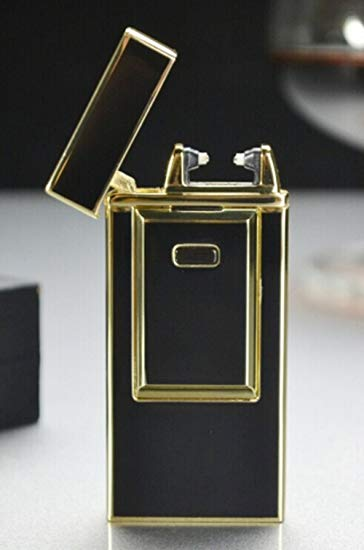Nonrec_Other: (38, 14, 313, 535)
